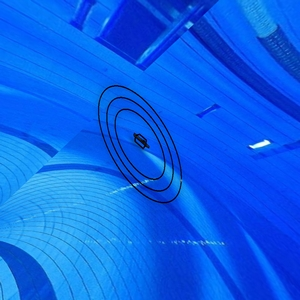circle: (90, 80, 190, 209)
submarine: (132, 129, 155, 154)
